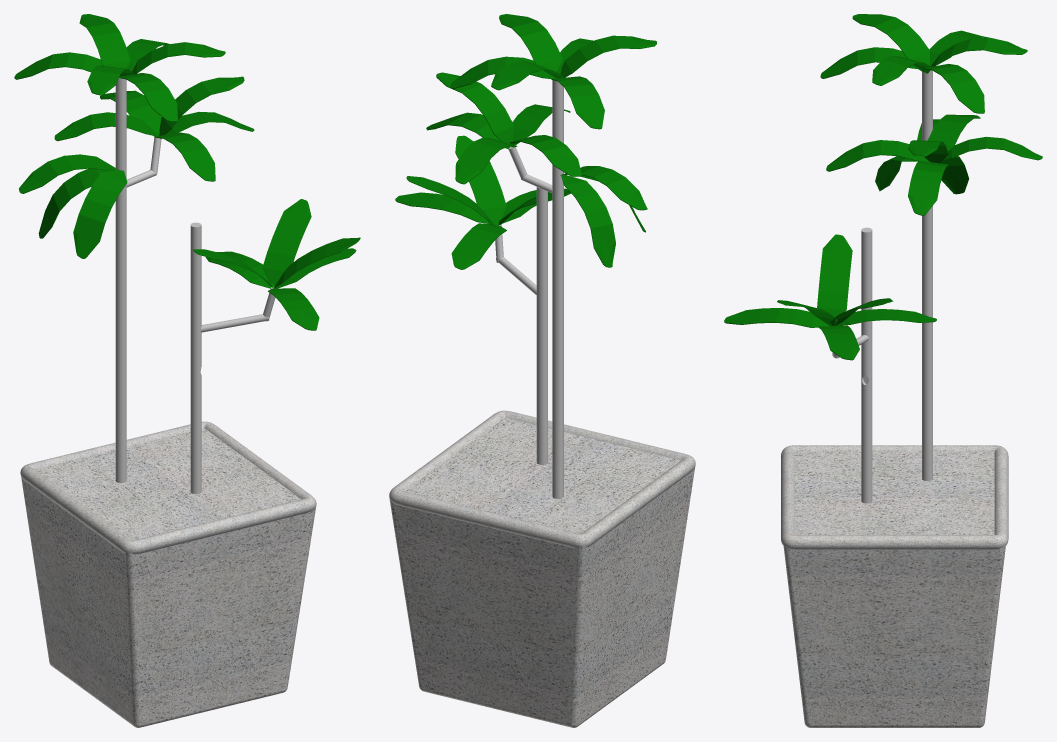
The model's file is plantpot1.fbx.
3 views of the same model, side by side, from view 1: azimuth 30°, elevation 25°; view 2: azimuth 150°, elevation 25°; view 3: azimuth 270°, elevation 25° (orthographic). The views are drawn at different scales.
Visible parts, largest first — view 1: Cube.002, Cylinder.010, Cylinder.005, Cylinder, Cube.011, Cube.008, Cube.023, Cube.010, Cube.012, Cube.013, Cube.014, Cube.018 (+11 smaller); view 2: Cube.002, Cylinder.010, Cylinder.005, Cylinder, Cube.012, Cube.013, Cube.021, Cube.009, Cube.020, Cube.022, Cube.005, Cube.015 (+9 smaller); view 3: Cube.002, Cylinder.010, Cylinder.005, Cylinder, Cube.007, Cube.022, Cube.017, Cube.004, Cube.019, Cube.014, Cube.018, Cube.015 (+9 smaller).
Part boxes in pixels (<box>): Cube.002: <box>21,428,316,727</box>; Cylinder.010: <box>20,421,316,554</box>; Cylinder.005: <box>115,78,126,483</box>; Cylinder: <box>190,222,201,493</box>; Cube.011: <box>73,169,127,258</box>; Cube.008: <box>262,199,311,286</box>; Cube.023: <box>79,14,130,68</box>; Cube.010: <box>19,154,115,193</box>; Cube.012: <box>38,168,110,238</box>; Cube.013: <box>159,76,244,135</box>; Cube.014: <box>154,132,215,181</box>; Cube.018: <box>119,73,177,121</box>; Cube.002: <box>389,417,694,727</box>; Cylinder.010: <box>389,410,695,548</box>; Cylinder.005: <box>552,80,563,498</box>; Cylinder: <box>536,187,547,464</box>; Cube.012: <box>561,175,615,267</box>; Cube.013: <box>436,72,513,147</box>; Cube.021: <box>499,14,562,71</box>; Cube.009: <box>455,135,506,224</box>; Cube.020: <box>551,76,604,129</box>; Cube.022: <box>560,35,656,77</box>; Cube.005: <box>451,223,506,269</box>; Cube.015: <box>455,138,517,184</box>; Cube.002: <box>783,452,1005,727</box>; Cylinder.010: <box>781,445,1008,549</box>; Cylinder.005: <box>922,70,932,480</box>; Cylinder: <box>861,227,872,503</box>; Cube.007: <box>817,234,852,317</box>; Cube.022: <box>852,14,929,65</box>; Cube.017: <box>908,160,948,215</box>; Cube.004: <box>724,308,829,327</box>; Cube.019: <box>923,64,984,113</box>; Cube.014: <box>826,140,929,171</box>; Cube.018: <box>820,47,919,78</box>; Cube.015: <box>941,136,1042,161</box>.
Size of the model in its own units: 65.43 by 136 by 61.68.
